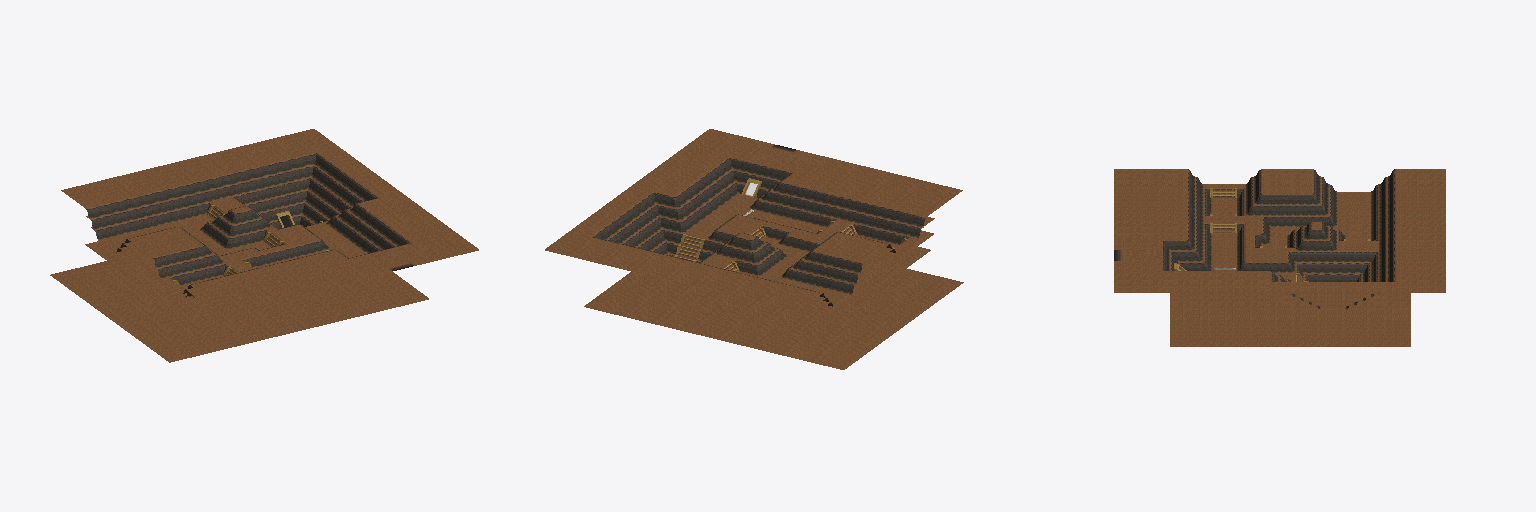
The picture shows the model from 3 angles: view 1: azimuth 30°, elevation 25°; view 2: azimuth 150°, elevation 25°; view 3: azimuth 270°, elevation 25°; orthographic projection.
Parts seen in each view (by area): view 1: polygon1, polygon0, polygon4, polygon5, polygon8; view 2: polygon0, polygon1, polygon4, polygon5, polygon3; view 3: polygon1, polygon0, polygon4, polygon5, polygon8.
Boxes of the visible parts, x1,y1,x2,y2 form: polygon1: [61, 129, 478, 311]; polygon0: [50, 214, 428, 362]; polygon4: [87, 155, 407, 297]; polygon5: [86, 152, 411, 289]; polygon8: [280, 215, 413, 270]; polygon0: [584, 194, 963, 369]; polygon1: [545, 129, 962, 311]; polygon4: [595, 159, 924, 306]; polygon5: [591, 157, 925, 302]; polygon3: [677, 226, 855, 271]; polygon1: [1114, 169, 1445, 292]; polygon0: [1170, 192, 1410, 346]; polygon4: [1165, 171, 1392, 309]; polygon5: [1162, 169, 1395, 281]; polygon8: [1114, 250, 1161, 260].
Bounding box in the file's own units: 9.75 × 2.12 × 9.94.
10 materials, 10 textured.